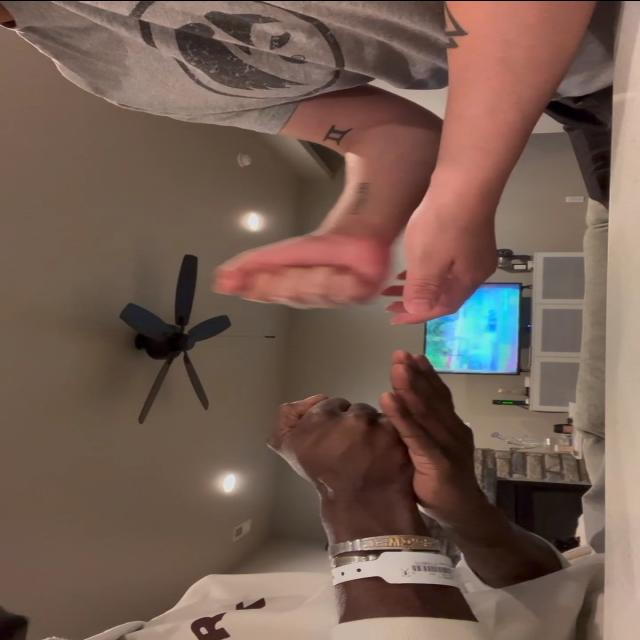Rock: (259, 393, 409, 492), (212, 232, 394, 310)
